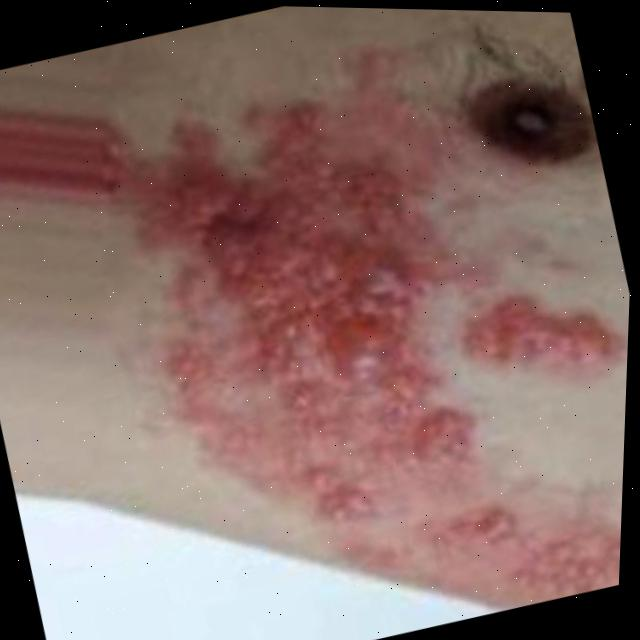Shingles: (56, 52, 524, 640), (461, 267, 631, 404), (485, 447, 624, 610)
